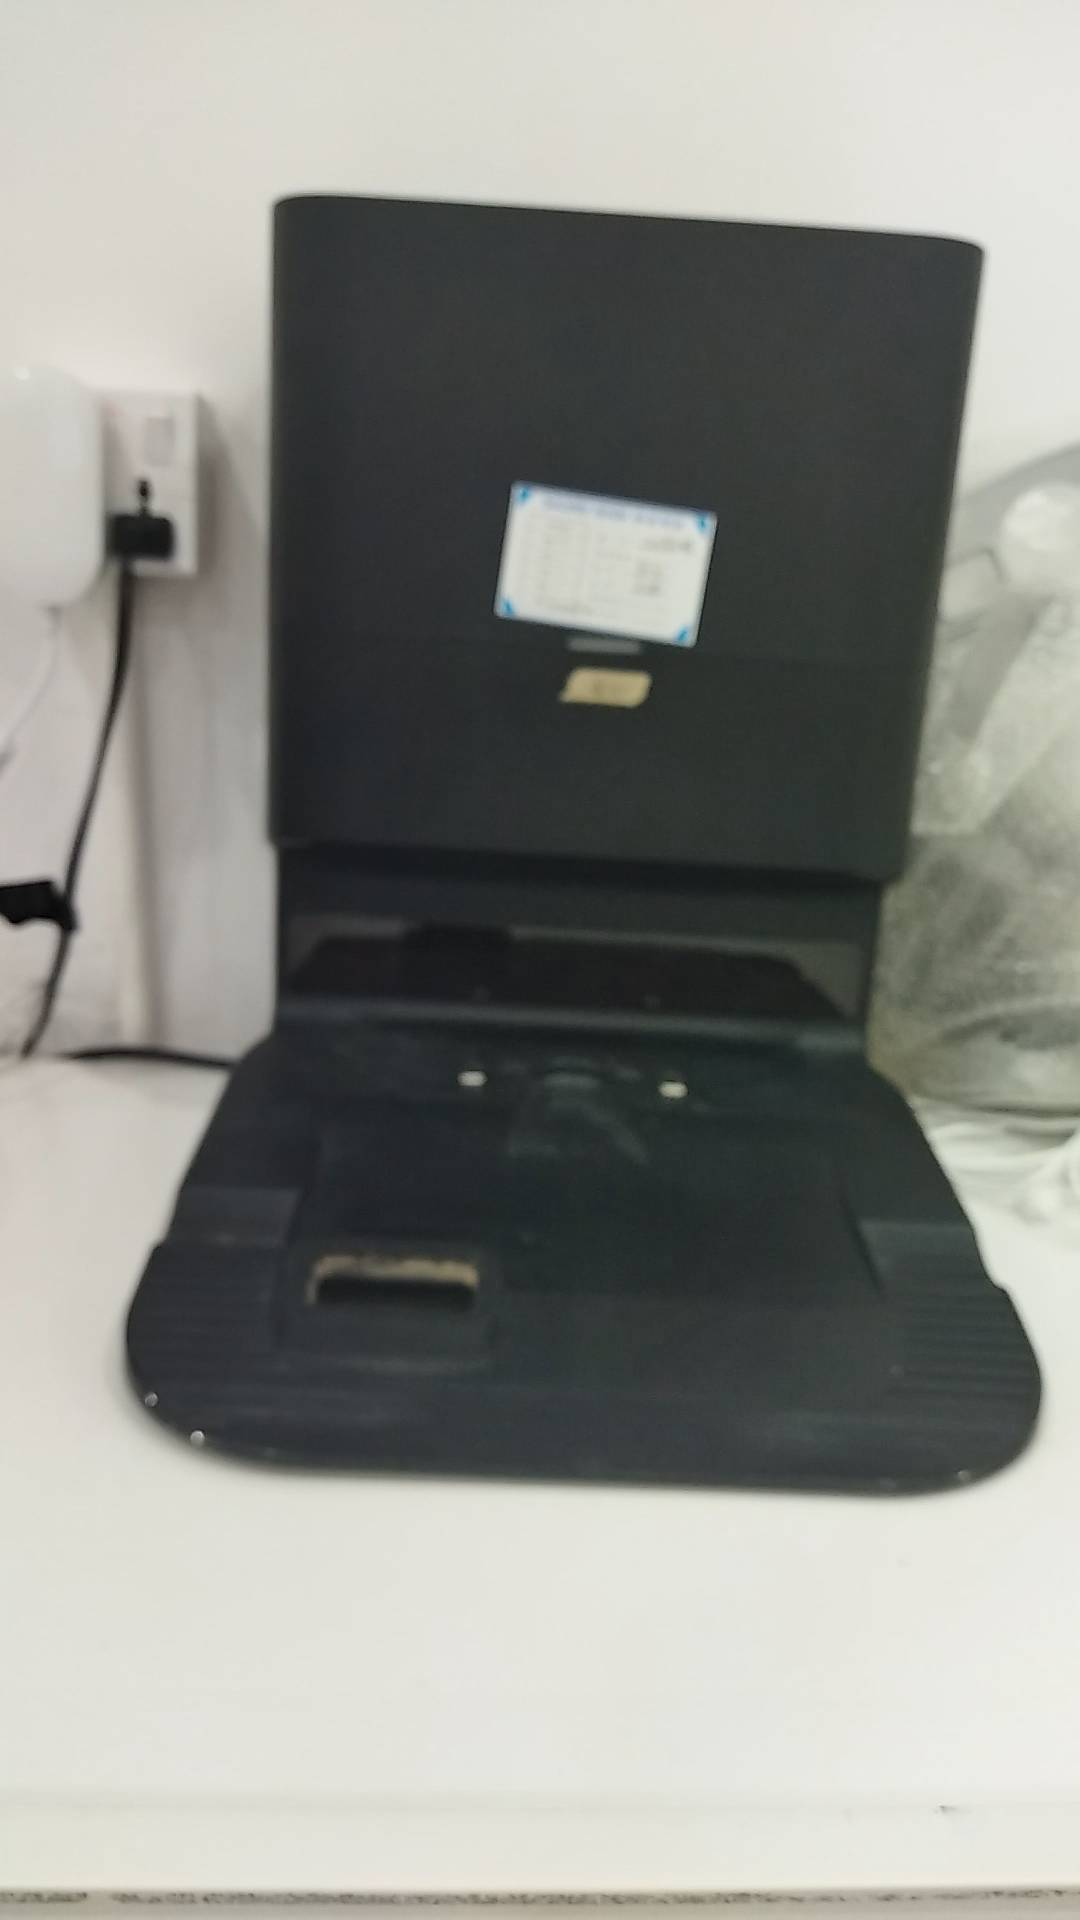dust collecting barrel: (127, 193, 1044, 1502)
